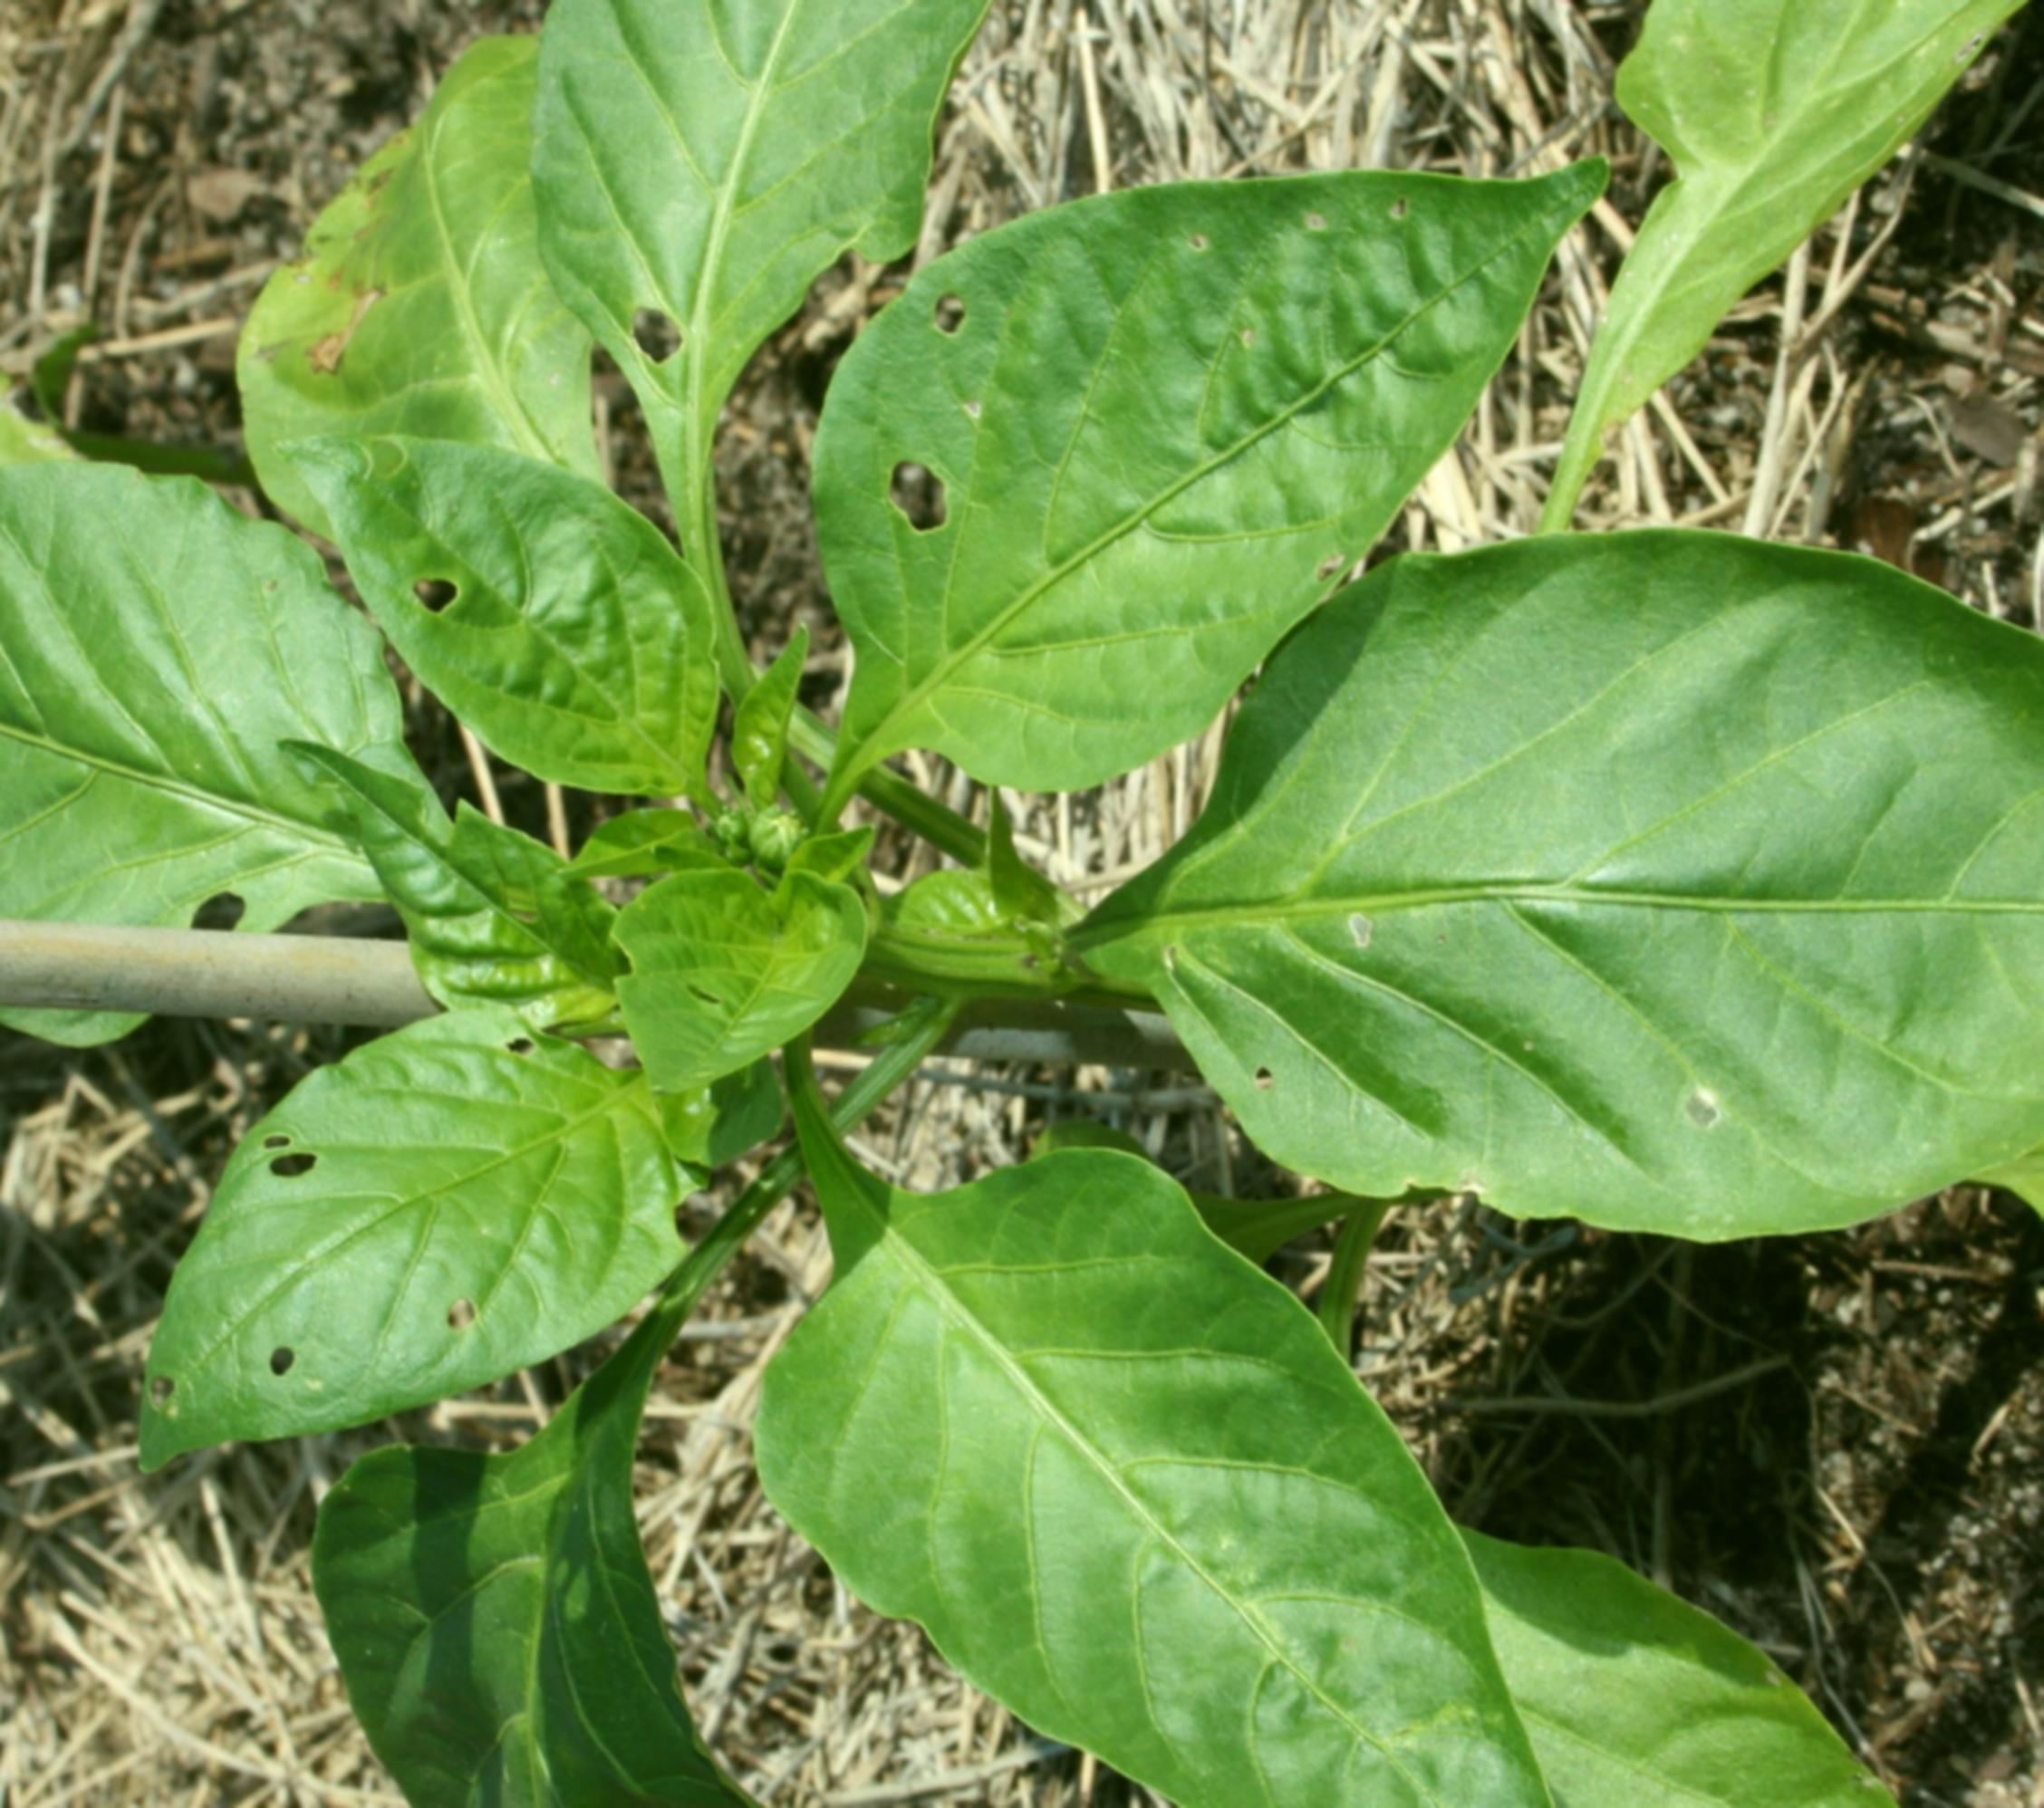Tomato leaf: (782, 17, 1637, 791), (1142, 544, 2044, 1208), (758, 1105, 1608, 1808), (529, 0, 1094, 522), (54, 1031, 705, 1459), (1508, 0, 2044, 506), (0, 419, 450, 963)
